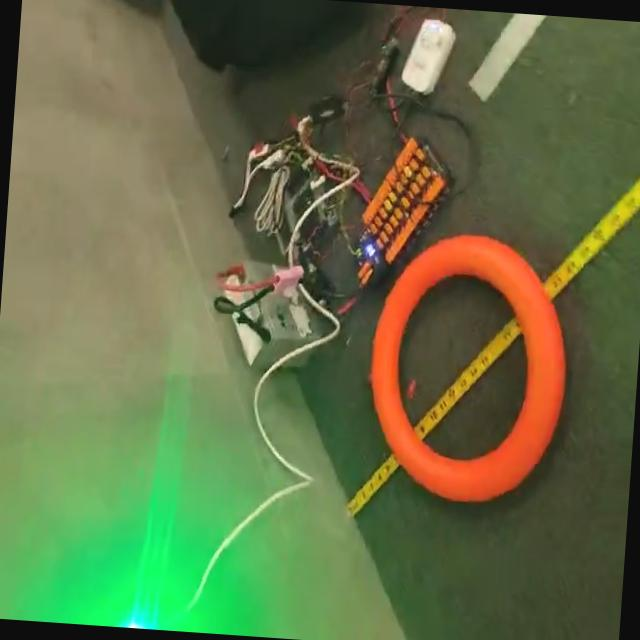note: (360, 225, 576, 510)
